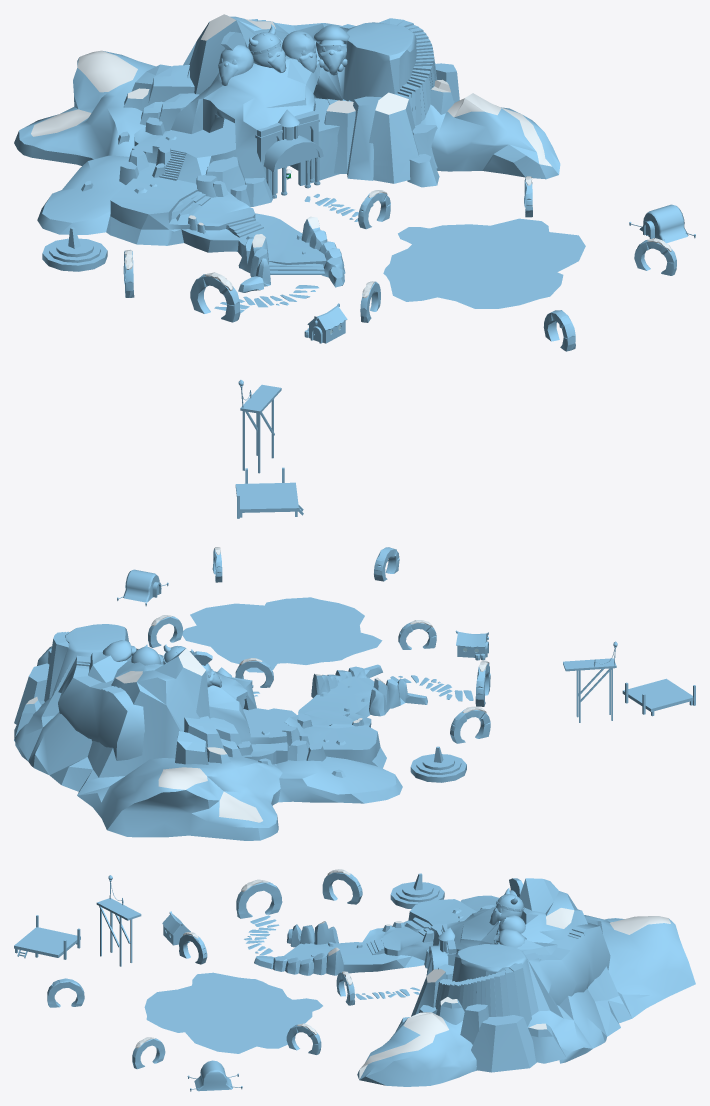
Rendered from Neighborhood_CoralCove_Locked_03.fbx.
The picture shows the model from 3 angles, top to bottom: view 1: azimuth 30°, elevation 25°; view 2: azimuth 150°, elevation 25°; view 3: azimuth 270°, elevation 25°; orthographic projection. The views are drawn at different scales.
Parts seen in each view (by area): view 1: Neighborhood_CoralCove_Locked_03; view 2: Neighborhood_CoralCove_Locked_03; view 3: Neighborhood_CoralCove_Locked_03.
Part boxes in pixels (left/top/right/bottom): Neighborhood_CoralCove_Locked_03: left=14, top=14, right=695, bottom=518; Neighborhood_CoralCove_Locked_03: left=14, top=547, right=695, bottom=840; Neighborhood_CoralCove_Locked_03: left=14, top=869, right=695, bottom=1091.
Bounding box in the file's own units: 3983 × 1465 × 5148.
